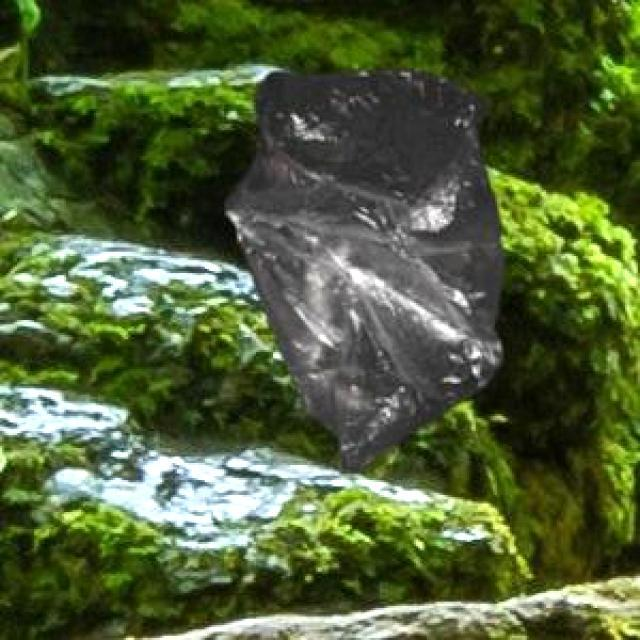Plastic_Bag: (222, 64, 500, 470)
